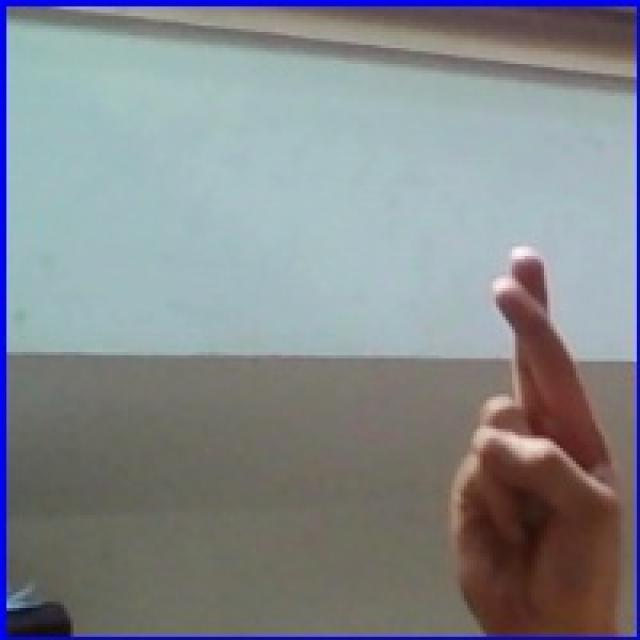Letra-R: (429, 229, 630, 623)
